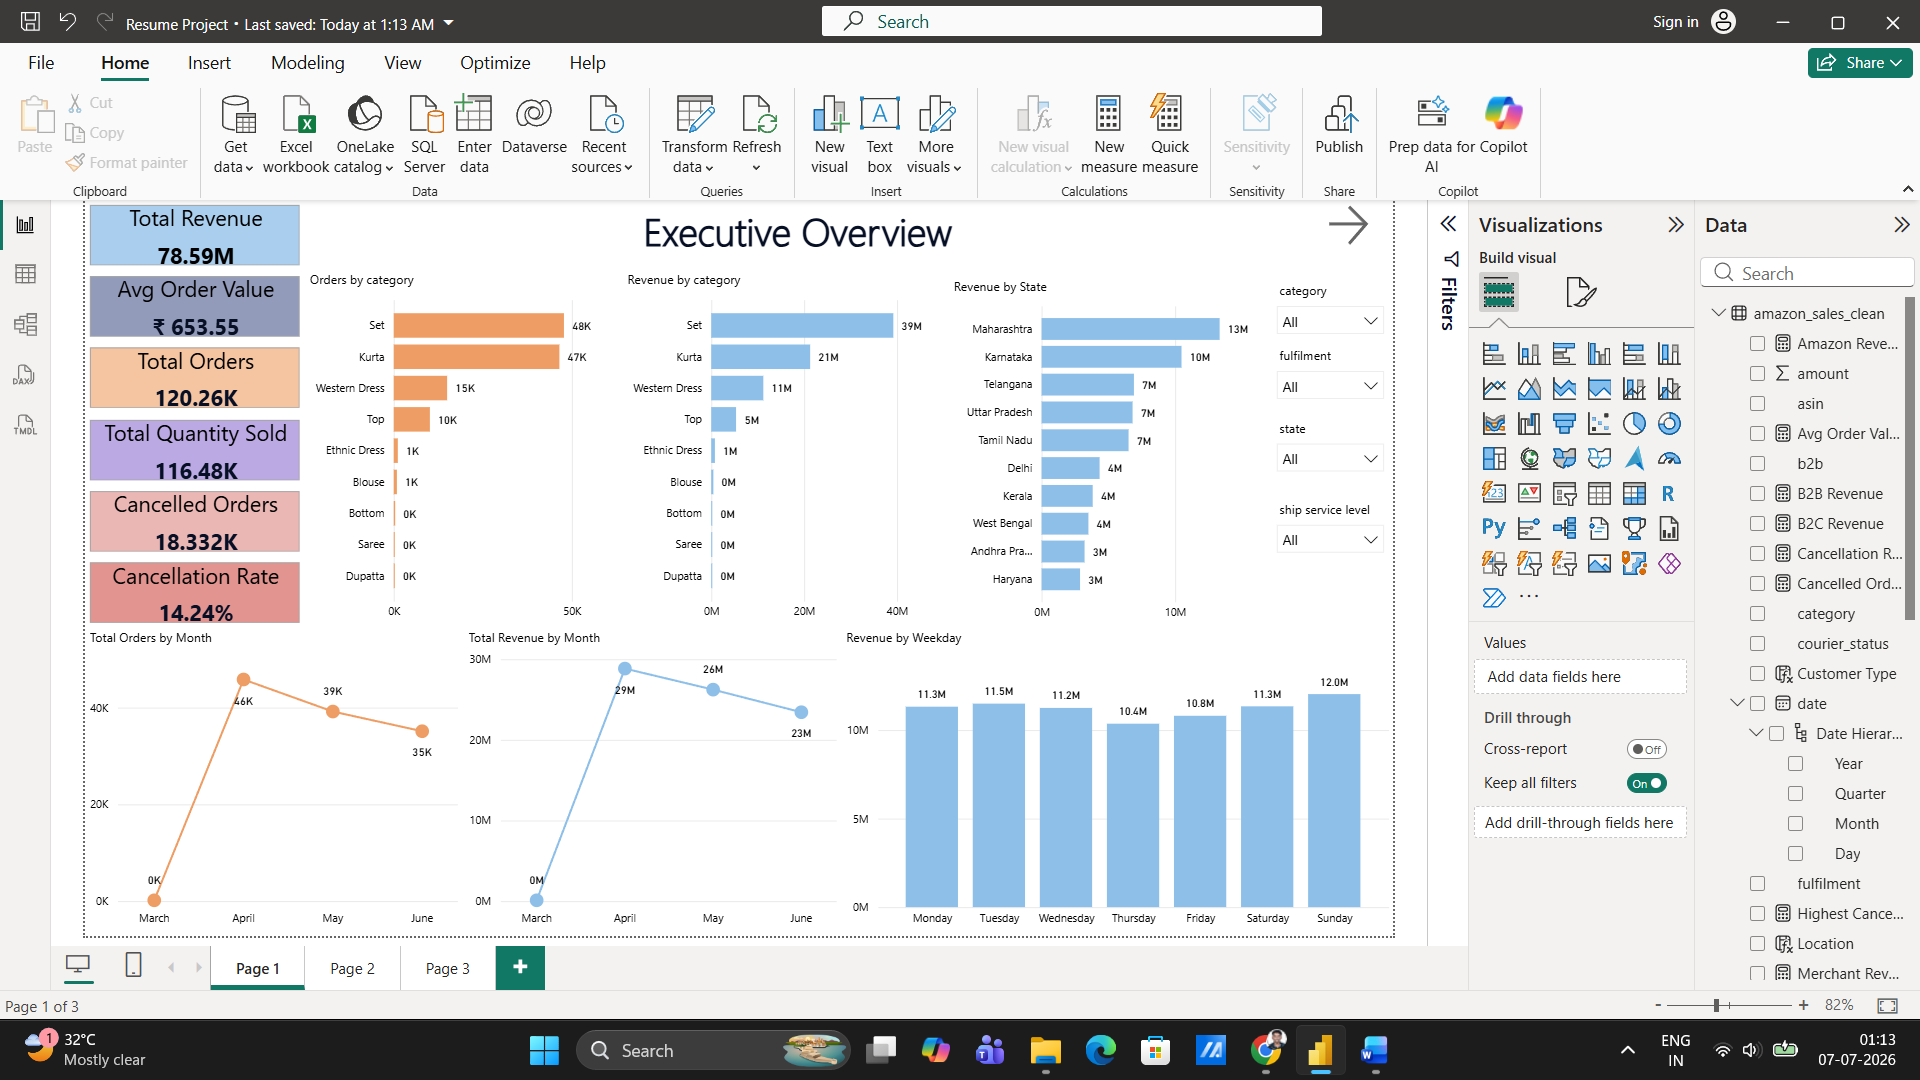

The page's visual inventory and layout, read from the dashboard file:
{"tool":"powerbi","page":{"name":"Page 1","canvas":[1280,720],"ordinal":0},"visuals":[{"type":"cardVisual","fields":{"Data":["amazon_sales_clean.Total Revenue"]},"box":[0,0,215,70],"z":0},{"type":"textbox","box":[240.1,0,915.3,75.5],"z":1000},{"type":"cardVisual","fields":{"Data":["amazon_sales_clean.Total Orders"]},"box":[0,140,215.4,70],"z":2000},{"type":"cardVisual","fields":{"Data":["amazon_sales_clean.Cancellation Rate"]},"box":[0,70,215.4,70],"z":3000},{"type":"cardVisual","fields":{"Data":["amazon_sales_clean.Cancellation Rate"]},"box":[0,349.9,215.4,70],"z":4000},{"type":"clusteredBarChart","title":"Revenue by category","fields":{"Y":["amazon_sales_clean.Total Revenue"],"Category":["amazon_sales_clean.category"]},"box":[525.6,70,310.1,349.9],"z":5000},{"type":"clusteredBarChart","title":"Orders by category","fields":{"Y":["amazon_sales_clean.Total Orders"],"Category":["amazon_sales_clean.category"]},"box":[215.4,70,310.1,349.9],"z":6000},{"type":"lineChart","fields":{"Category":["amazon_sales_clean.order_date.Variation.Date Hierarchy.Month"],"Y":["amazon_sales_clean.Total Revenue"]},"box":[370.5,419.9,370,300.5],"z":7000},{"type":"lineChart","fields":{"Y":["amazon_sales_clean.Total Orders"],"Category":["amazon_sales_clean.order_date.Variation.Date Hierarchy.Month"]},"box":[0,419.9,370,300.5],"z":8000},{"type":"cardVisual","fields":{"Data":["amazon_sales_clean.Total Quantity Sold"]},"box":[0,209.9,215.4,70],"z":9000},{"type":"cardVisual","fields":{"Data":["amazon_sales_clean.Cancelled Orders"]},"box":[0,279.9,215.4,70],"z":10000},{"type":"slicer","fields":{"Values":["amazon_sales_clean.category"]},"box":[1165,159.2,14,199],"z":11000},{"type":"slicer","fields":{"Values":["amazon_sales_clean.ship_state"]},"box":[1155.4,209.9,124.9,60.4],"z":12000},{"type":"slicer","fields":{"Values":["amazon_sales_clean.fulfilment"]},"box":[1155.4,140,124.9,60.4],"z":13000},{"type":"slicer","fields":{"Values":["amazon_sales_clean.ship_service_level"]},"box":[1155.4,289.5,124.9,60.4],"z":14000},{"type":"slicer","fields":{"Values":["amazon_sales_clean.category"]},"box":[1155.4,75.5,124.9,60.4],"z":15000},{"type":"clusteredColumnChart","title":"Revenue by Weekday","fields":{"Category":["amazon_sales_clean.Weekday"],"Y":["amazon_sales_clean.Total Revenue"]},"box":[739.6,419.9,540.7,300.5],"z":16000},{"type":"barChart","title":"Revenue by State","fields":{"Category":["amazon_sales_clean.ship_state"],"Y":["amazon_sales_clean.Total Revenue"]},"box":[845.3,75.5,310.1,344.4],"z":17000},{"type":"actionButton","box":[1210.3,0,70,49.4],"z":18000}]}

Visuals, with their boxes on the page's 1280x720 design canvas (x1, y1, x2, y2). These are canvas units, not pixel positions in the 1920x1080 screenshot, which may show the page scaled, cropped or inside an application window:
cardVisual - amazon_sales_clean.Total Revenue: 0:0:215:70
textbox: 240:0:1155:76
cardVisual - amazon_sales_clean.Total Orders: 0:140:215:210
cardVisual - amazon_sales_clean.Cancellation Rate: 0:70:215:140
cardVisual - amazon_sales_clean.Cancellation Rate: 0:350:215:420
"Revenue by category" clusteredBarChart: 526:70:836:420
"Orders by category" clusteredBarChart: 215:70:526:420
lineChart - amazon_sales_clean.order_date.Variation.Date Hierarchy.Month x amazon_sales_clean.Total Revenue: 370:420:740:720
lineChart - amazon_sales_clean.Total Orders x amazon_sales_clean.order_date.Variation.Date Hierarchy.Month: 0:420:370:720
cardVisual - amazon_sales_clean.Total Quantity Sold: 0:210:215:280
cardVisual - amazon_sales_clean.Cancelled Orders: 0:280:215:350
slicer - amazon_sales_clean.category: 1165:159:1179:358
slicer - amazon_sales_clean.ship_state: 1155:210:1280:270
slicer - amazon_sales_clean.fulfilment: 1155:140:1280:200
slicer - amazon_sales_clean.ship_service_level: 1155:290:1280:350
slicer - amazon_sales_clean.category: 1155:76:1280:136
"Revenue by Weekday" clusteredColumnChart: 740:420:1280:720
"Revenue by State" barChart: 845:76:1155:420
actionButton: 1210:0:1280:49
